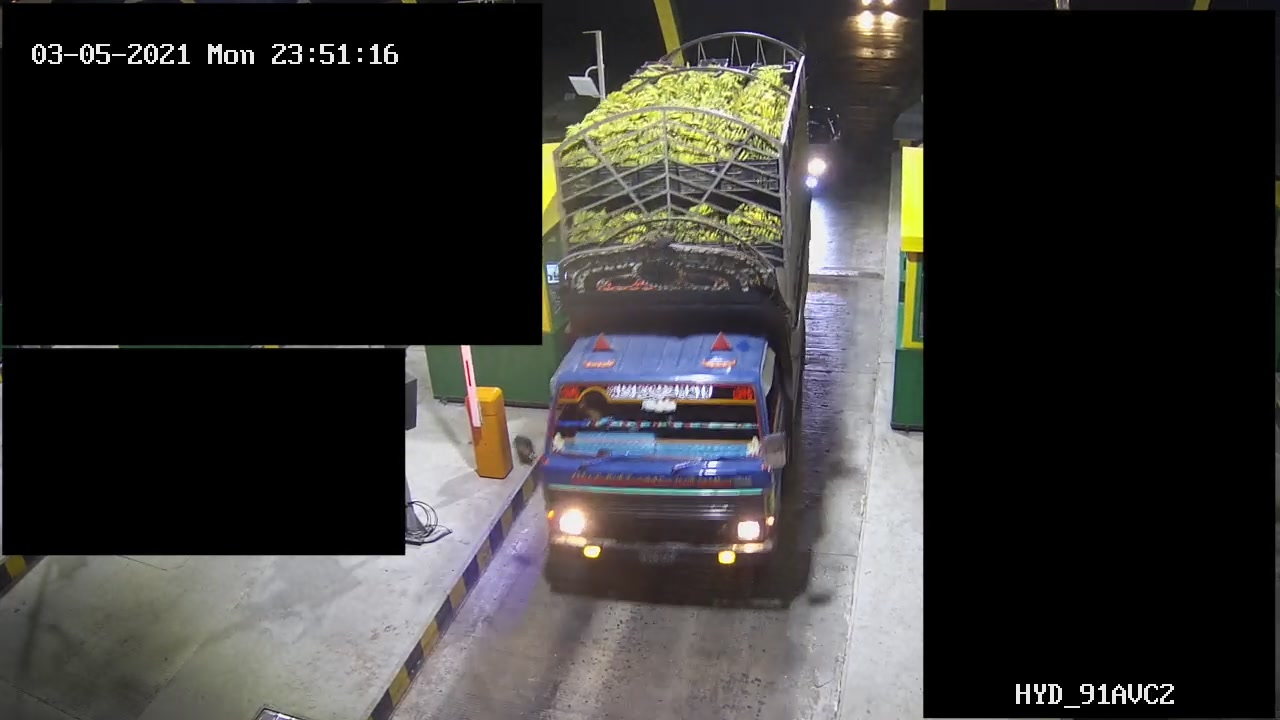F3: (536, 33, 814, 573)
